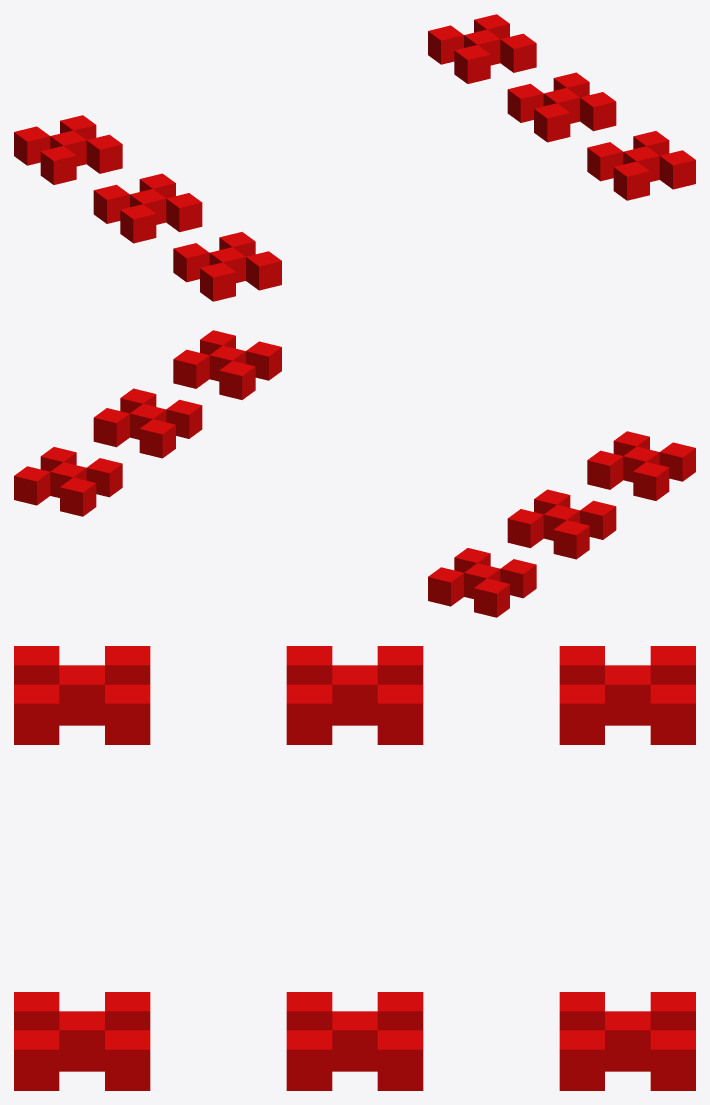
Rendered from NightCity-2-CrosswalkRed.obj.
3 views of the same model, one above another, from view 1: azimuth 30°, elevation 25°; view 2: azimuth 150°, elevation 25°; view 3: azimuth 270°, elevation 25° (orthographic). The views are drawn at different scales.
Visible parts, largest first — view 1: CrosswalkRed; view 2: CrosswalkRed; view 3: CrosswalkRed.
Boxes of the visible parts, x1=… form: CrosswalkRed: x1=14, y1=14, x2=695, y2=301; CrosswalkRed: x1=14, y1=330, x2=695, y2=617; CrosswalkRed: x1=14, y1=646, x2=695, y2=1090.
Size of the model in its own units: 2.1 by 0.1 by 1.5.
Materials: 1 (1 with a texture image).
